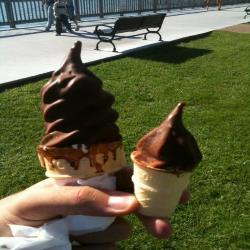icecream: (27, 33, 130, 168), (127, 96, 212, 182)
